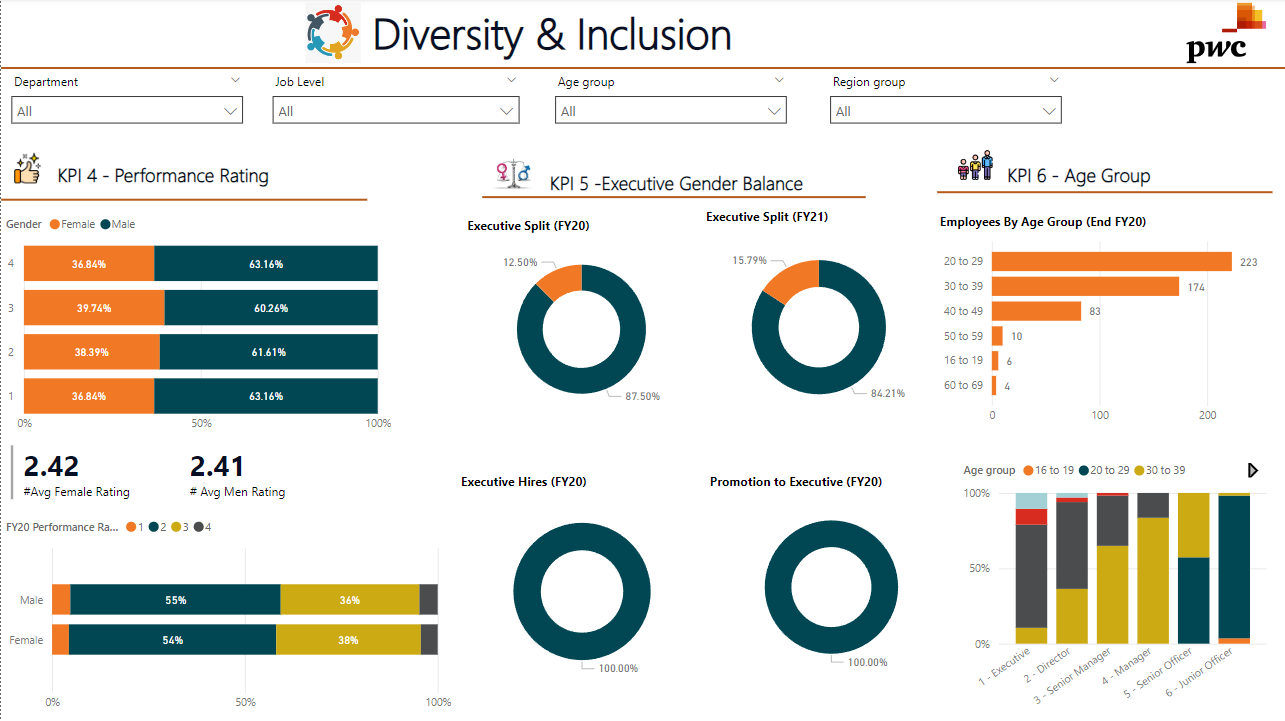

Layout of this report page (visuals, bound fields, positions):
{"tool":"powerbi","page":{"name":"Page 2","canvas":[1280,720],"ordinal":1},"visuals":[{"type":"textbox","box":[364.5,0,475.3,69.4],"z":0},{"type":"slicer","fields":{"Values":["Pharma.Last Department in FY20"]},"box":[0,69.4,251,97.5],"z":1000},{"type":"slicer","fields":{"Values":["Pharma.Job Level after FY20 promotions"]},"box":[260.3,69.4,265.7,97.5],"z":2000},{"type":"slicer","fields":{"Values":["Pharma.Age group"]},"box":[540.7,69.4,251,97.5],"z":3000},{"type":"slicer","fields":{"Values":["Pharma.Broad region group: nationality 1"]},"box":[814.4,69.4,251,97.5],"z":4000},{"type":"hundredPercentStackedBarChart","fields":{"Category":["Pharma.FY20 Performance Rating"],"Y":["CountNonNull(Pharma.Employee ID)"],"Series":["Pharma.Gender"]},"box":[0,206.5,393.1,233.9],"z":5000},{"type":"hundredPercentStackedBarChart","fields":{"Category":["Pharma.Gender"],"Y":["CountNonNull(Pharma.Employee ID)"],"Series":["Pharma.FY20 Performance Rating"]},"box":[0,507.5,452.8,210.2],"z":6000},{"type":"donutChart","title":"Executive Split (FY20)","fields":{"Category":["Pharma.Gender"],"Y":["CountNonNull(Pharma.Employee ID)"]},"box":[459.2,217.6,237.6,208.3],"z":7000},{"type":"donutChart","title":"Executive Split (FY21)","fields":{"Category":["Pharma.Gender"],"Y":["CountNonNull(Pharma.Employee ID)"]},"box":[696.9,209.6,235,221.6],"z":8000},{"type":"donutChart","title":"Executive Hires (FY20)","fields":{"Category":["Pharma.Gender"],"Y":["CountNonNull(Pharma.Employee ID)"]},"box":[452.8,472.7,251.3,220.2],"z":9000},{"type":"donutChart","title":"Promotion to Executive (FY20)","fields":{"Category":["Pharma.Gender"],"Y":["CountNonNull(Pharma.Employee ID)"]},"box":[700.3,472.7,252.5,211.5],"z":10000},{"type":"clusteredBarChart","title":"Employees By Age Group (End FY20)","fields":{"Category":["Pharma.Age group"],"Y":["CountNonNull(Pharma.Employee ID)"]},"box":[929.2,213.6,340.4,218.9],"z":11000},{"type":"hundredPercentStackedColumnChart","fields":{"Series":["Pharma.Age group"],"Category":["Pharma.Job Level after FY21 promotions"],"Y":["CountNonNull(Pharma.Employee ID)"]},"box":[953.2,451.2,312.4,265.7],"z":12000},{"type":"textbox","box":[0,157.5,328.4,36],"z":13000},{"type":"textbox","box":[540.7,166.9,327.1,36],"z":14000},{"type":"textbox","box":[995.9,157.5,176.2,53.4],"z":15000},{"type":"shape","box":[0,193.6,364.5,13.4],"z":16000},{"type":"shape","box":[479.3,192.2,381.8,10.7],"z":17000},{"type":"shape","box":[931.8,186.9,333.8,13.4],"z":18000},{"type":"image","box":[0,149.5,53.4,40.1],"z":19000},{"type":"image","box":[939.8,144.2,58.7,44.1],"z":20000},{"type":"image","box":[481.9,153.5,58.7,44.1],"z":21000},{"type":"image","box":[1158.1,0,121.9,69.7],"z":22000},{"type":"image","box":[297.7,0,66.8,69.4],"z":23000},{"type":"multiRowCard","fields":{"Values":["Pharma.#Avg Female Rating","Pharma.# Avg Men Rating"]},"box":[5,440.4,353.3,69.7],"z":23001},{"type":"shape","box":[0,64.7,1280,10],"z":23002}]}

Visuals, with their boxes in screenshot pixels (x1, y1, x2, y2), scaled from the page's 1280x720 canvas onto the 1285x721 screenshot:
textbox: 366/0/843/69
slicer - Pharma.Last Department in FY20: 0/69/252/167
slicer - Pharma.Job Level after FY20 promotions: 261/69/528/167
slicer - Pharma.Age group: 543/69/795/167
slicer - Pharma.Broad region group: nationality 1: 818/69/1070/167
hundredPercentStackedBarChart - Pharma.FY20 Performance Rating x CountNonNull(Pharma.Employee ID): 0/207/395/441
hundredPercentStackedBarChart - Pharma.Gender x CountNonNull(Pharma.Employee ID): 0/508/455/719
"Executive Split (FY20)" donutChart: 461/218/700/426
"Executive Split (FY21)" donutChart: 700/210/936/432
"Executive Hires (FY20)" donutChart: 455/473/707/694
"Promotion to Executive (FY20)" donutChart: 703/473/957/685
"Employees By Age Group (End FY20)" clusteredBarChart: 933/214/1275/433
hundredPercentStackedColumnChart - Pharma.Age group x Pharma.Job Level after FY21 promotions: 957/452/1271/718
textbox: 0/158/330/194
textbox: 543/167/871/203
textbox: 1000/158/1177/211
shape: 0/194/366/207
shape: 481/192/864/203
shape: 935/187/1271/201
image: 0/150/54/190
image: 943/144/1002/189
image: 484/154/543/198
image: 1163/0/1284/70
image: 299/0/366/69
multiRowCard - Pharma.#Avg Female Rating x Pharma.# Avg Men Rating: 5/441/360/511
shape: 0/65/1284/75
